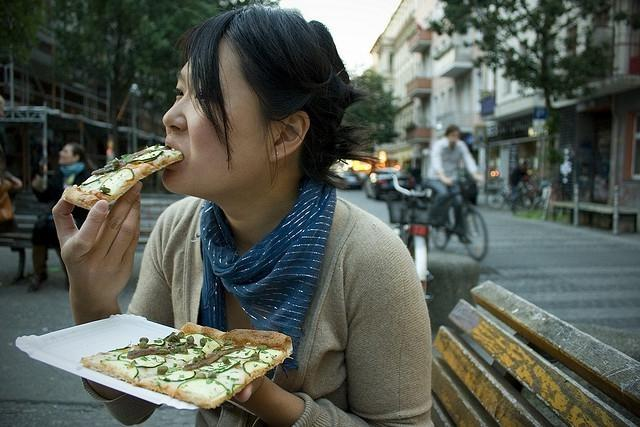bicycle: (374, 171, 442, 299), (430, 177, 488, 262), (510, 188, 533, 215)
car: (358, 164, 417, 202)
